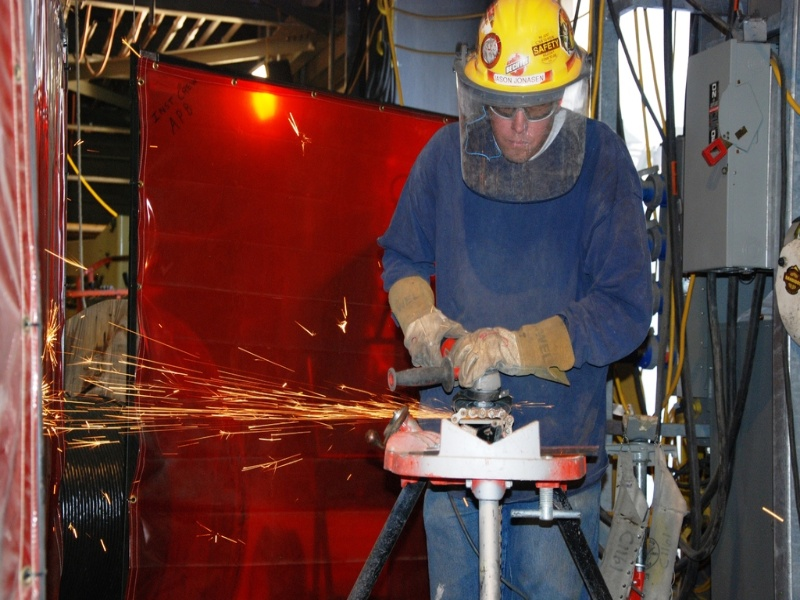Baret: (460, 1, 585, 90)
